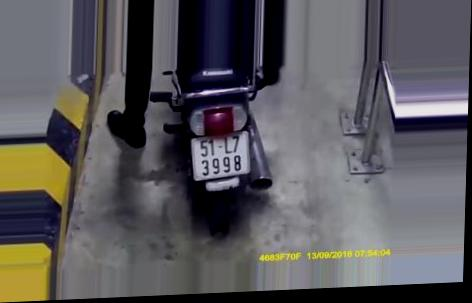License_Plate: (185, 127, 257, 181)
